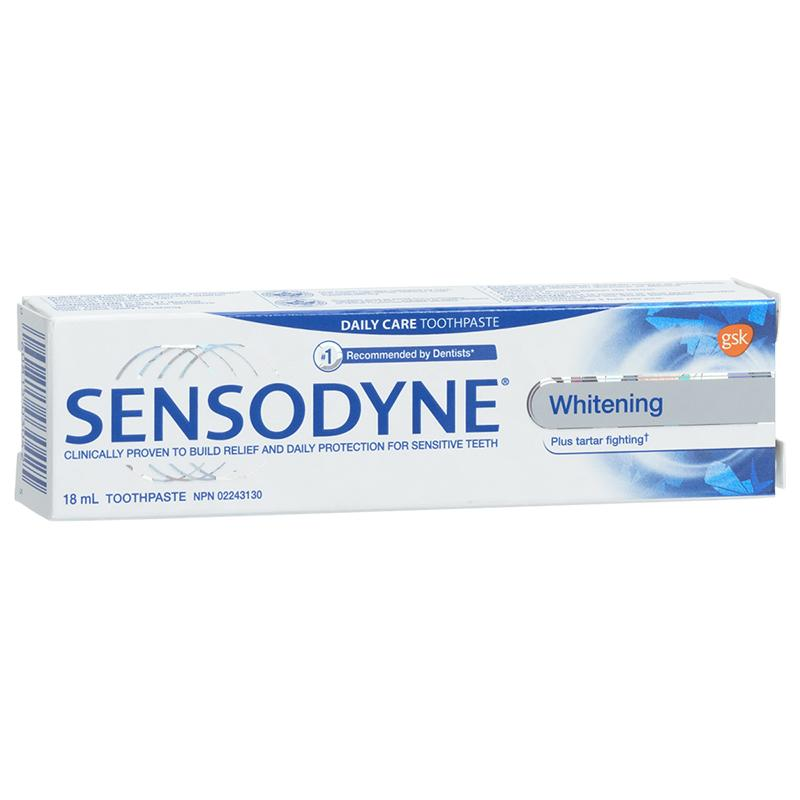toothpaste: (16, 286, 780, 504)
